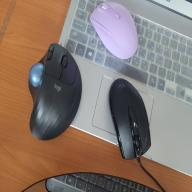mouse: (27, 42, 83, 141), (89, 1, 139, 60)
